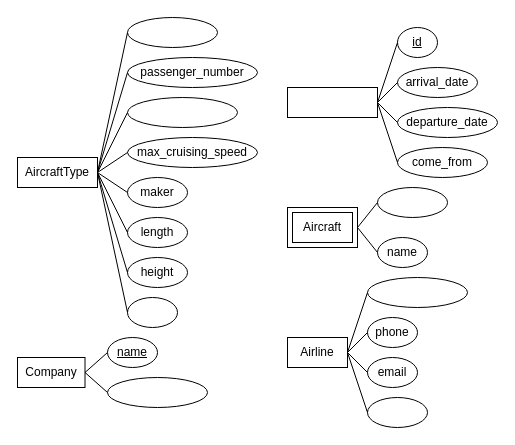
Image size: 515x445. Some labels were removed from this diagram. The box of each missing label's shape, as (x1, y1, x2, y2) in pixels:
engine_number: (126, 96, 238, 128)
fleet_id: (376, 186, 448, 218)
home_country: (106, 376, 208, 408)
M aintenance: (286, 86, 378, 118)
model_name: (126, 16, 218, 48)
span: (126, 296, 178, 328)
two_letter_code: (366, 276, 468, 308)
website: (366, 396, 428, 428)
